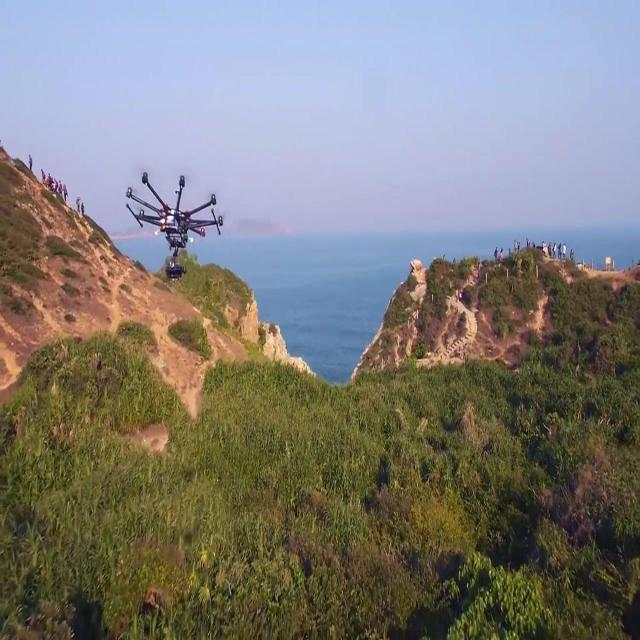drone: (124, 167, 225, 286)
